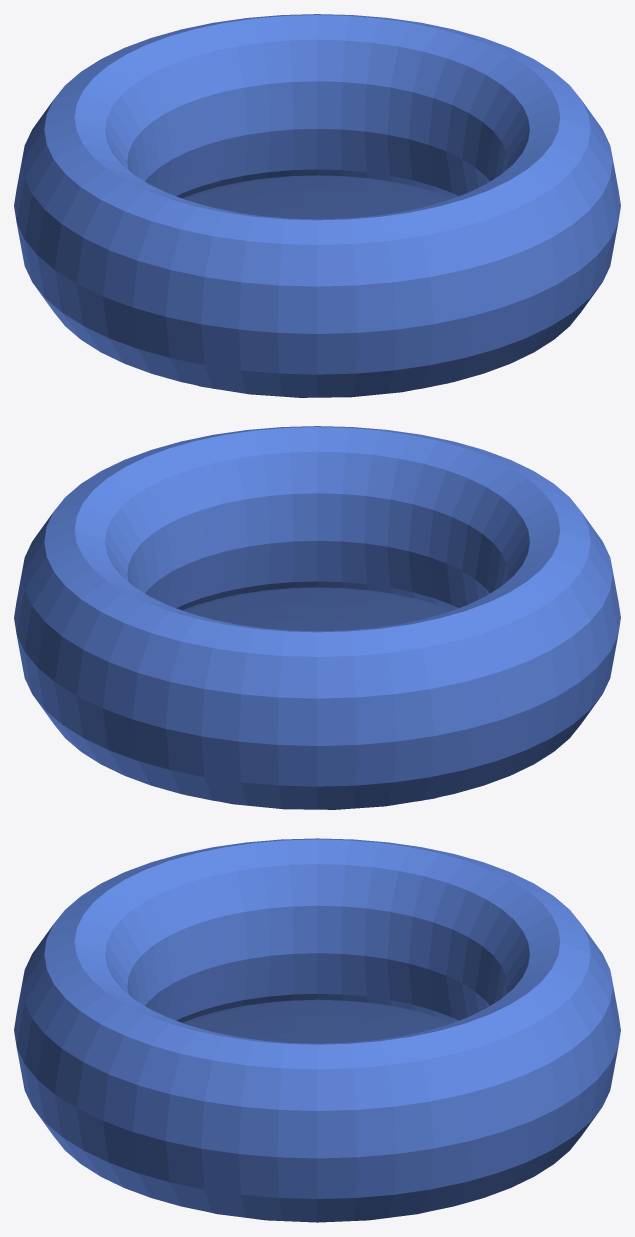
The model's file is bowl.fbx.
3 renders of one model, top to bottom at view 1: azimuth 30°, elevation 25°; view 2: azimuth 150°, elevation 25°; view 3: azimuth 270°, elevation 25°, orthographic.
Visible parts, largest first — view 1: Torus, Sphere; view 2: Torus, Sphere; view 3: Torus, Sphere.
Part boxes in pixels (bbox=[...]): Torus: bbox=[14, 14, 620, 397]; Sphere: bbox=[182, 175, 452, 397]; Torus: bbox=[14, 426, 620, 809]; Sphere: bbox=[182, 587, 452, 809]; Torus: bbox=[14, 838, 620, 1221]; Sphere: bbox=[182, 999, 452, 1222].
Size of the model in its own units: 226 by 80.57 by 226.
